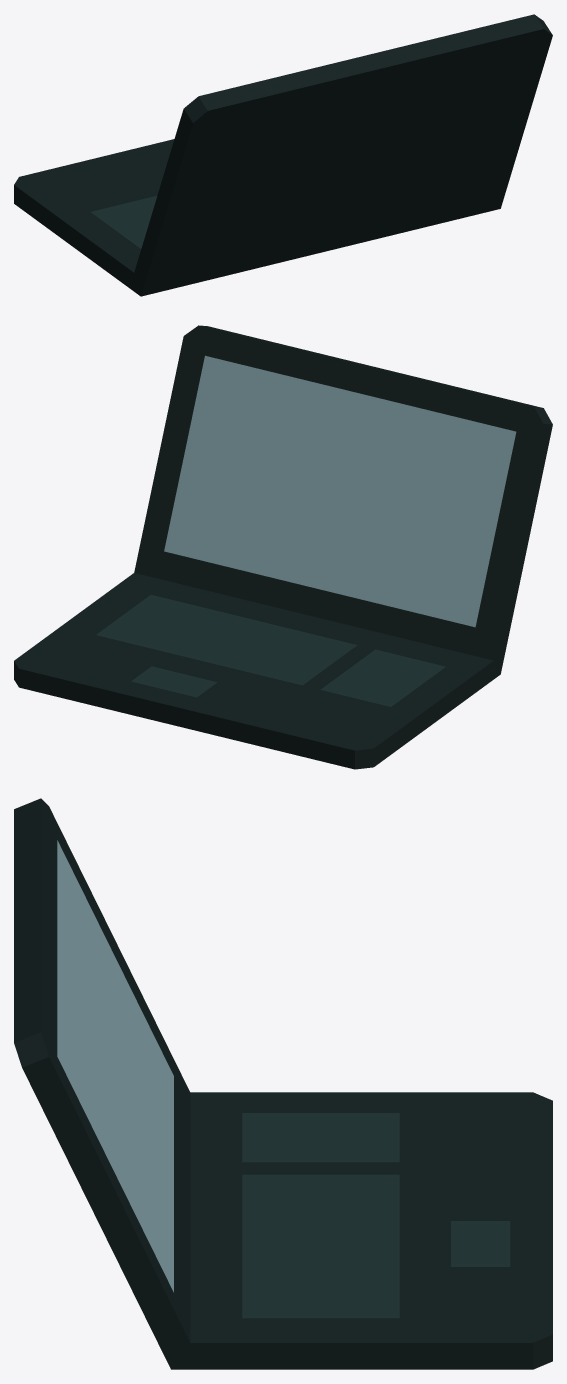
The model's file is laptop.fbx.
3 views of the same model, one above another, from view 1: azimuth 30°, elevation 25°; view 2: azimuth 150°, elevation 25°; view 3: azimuth 270°, elevation 25° (orthographic). The views are drawn at different scales.
Parts seen in each view (by area): view 1: laptop; view 2: laptop; view 3: laptop.
Boxes of the visible parts, box(x1,y1,x2,y2) form: laptop: box(14, 14, 552, 296); laptop: box(14, 325, 552, 769); laptop: box(14, 798, 552, 1369).
Size of the model in its own units: 0.264 by 0.1618 by 0.2401.
